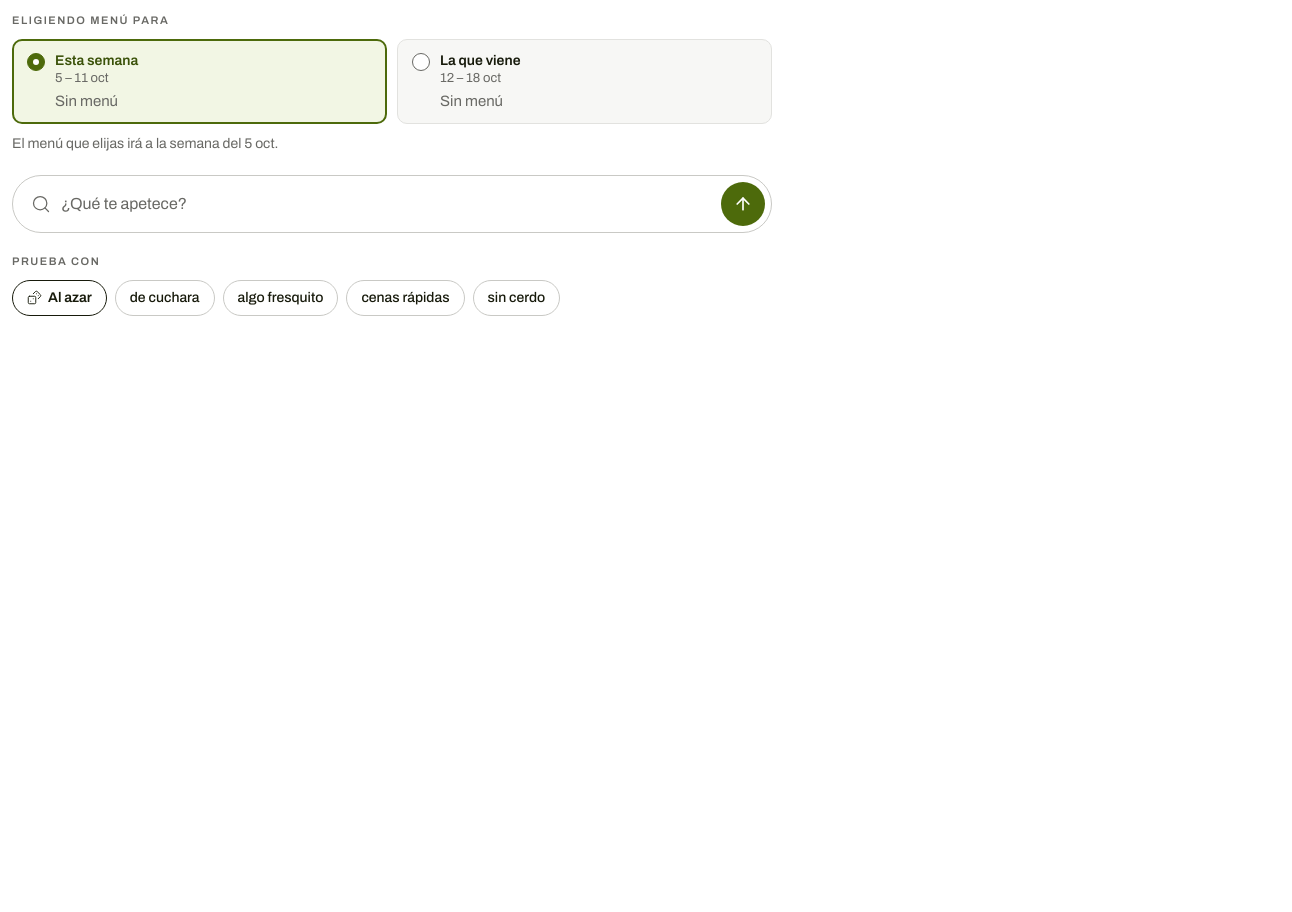
Test: PlannerSearch › the suggestions "Prueba con" › is no longer shown, with "Al azar", once a search returns menus
The image size is (1292, 912).
Type "garbanzos" into the field. click: coordinates (386, 204)
box: [61,184,711,224]
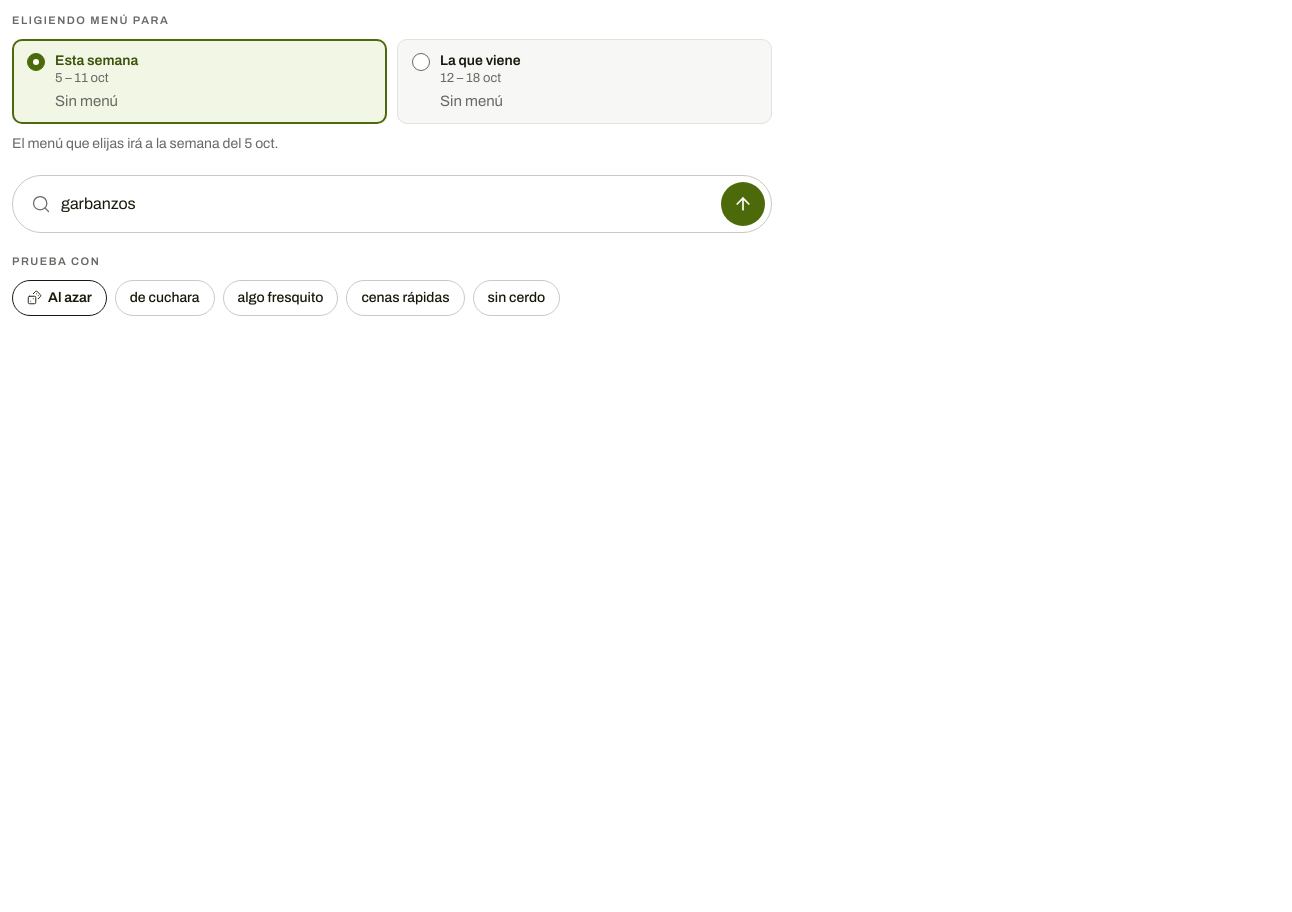
Click the button named "Buscar". click: coordinates (743, 204)
box: [721,182,765,226]
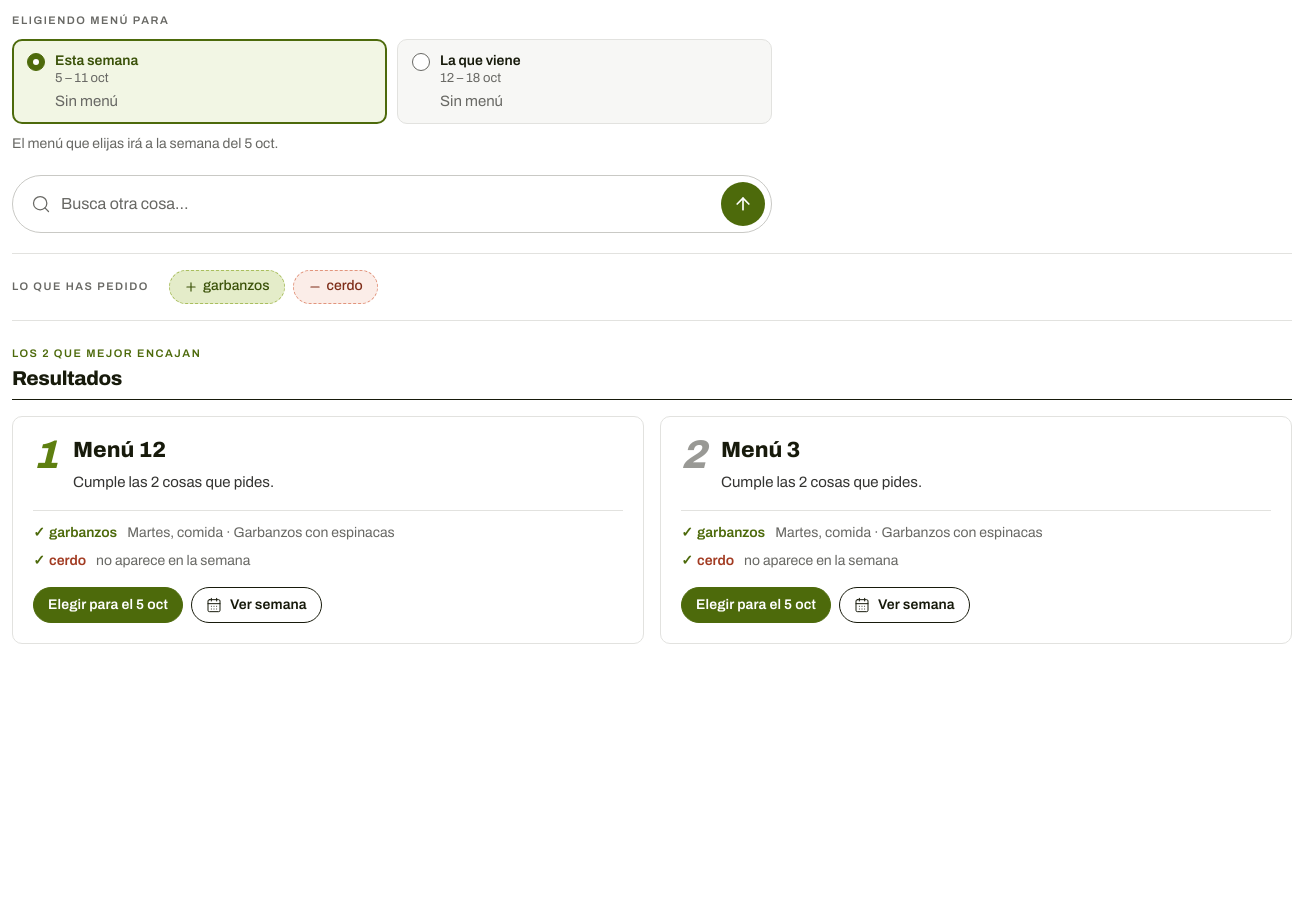
Expected: the list named "Lo que has pedido" is shown, [169,270,378,304]
Expected: the text "Prueba con" is gone
Expected: the button "Al azar" is gone
